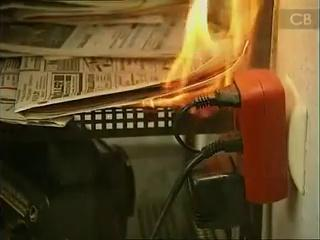Fire: (131, 1, 264, 110)
